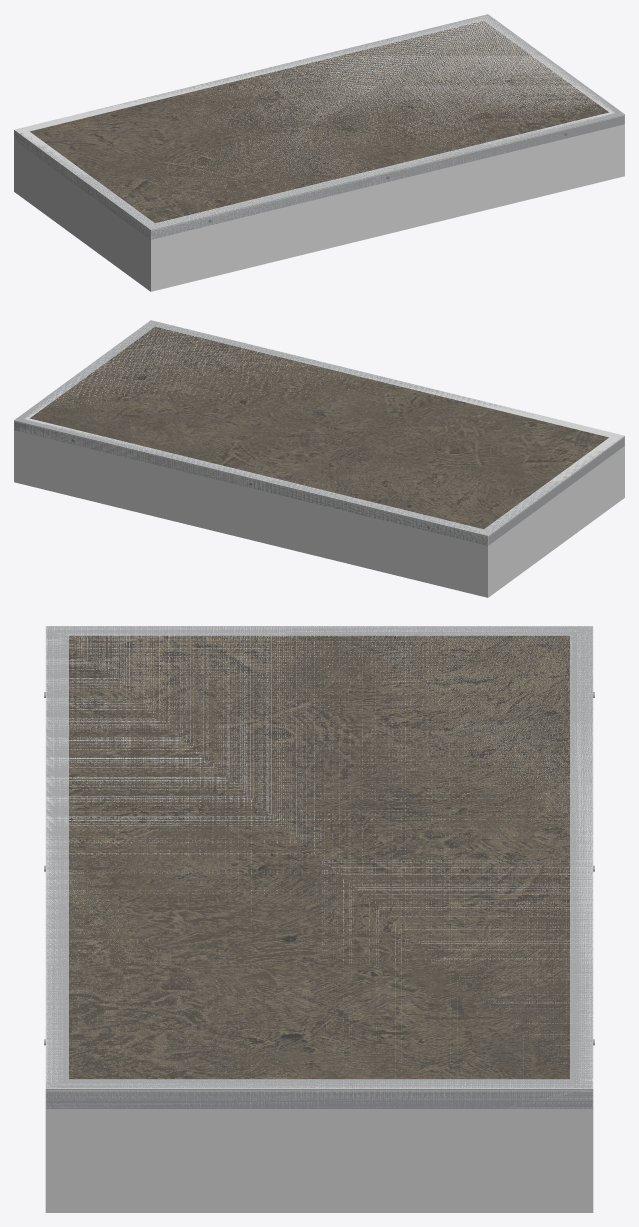
File: manual_pad.glb
3 views of the same model, one above another, from view 1: azimuth 30°, elevation 25°; view 2: azimuth 150°, elevation 25°; view 3: azimuth 270°, elevation 25° (orthographic). The views are drawn at different scales.
Visible parts, largest first — view 1: COL_manual_pad, manual_pad_brushed concrete, manual_pad_worn steel edge; view 2: manual_pad_brushed concrete, COL_manual_pad, manual_pad_worn steel edge; view 3: manual_pad_brushed concrete, COL_manual_pad, manual_pad_worn steel edge.
Boxes of the visible parts, x1,y1,x2,y2 form: COL_manual_pad: (14,14,624,291); manual_pad_brushed concrete: (30,21,608,223); manual_pad_worn steel edge: (14,14,624,239); manual_pad_brushed concrete: (30,326,608,529); COL_manual_pad: (14,320,624,597); manual_pad_worn steel edge: (14,320,624,545); manual_pad_brushed concrete: (68,635,570,1079); COL_manual_pad: (45,626,593,1212); manual_pad_worn steel edge: (46,626,592,1108).
Bounding box in the file's own units: 2.4 × 0.3 × 1.21.
Materials: 4 (2 with a texture image).
